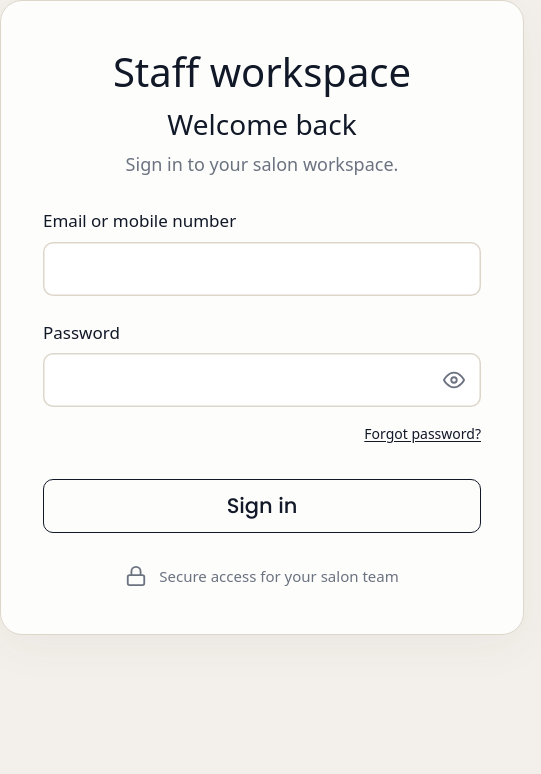
Scenario: account sign-in › shows field feedback for wrong credentials and clears the password
Expected: the button with test id "account-sign-in-submit" is enabled, [43, 479, 481, 533]
Step 1. Type "owner@alpha.test" into the field with test id "account-identifier" → (262,268), box [43, 242, 481, 296]
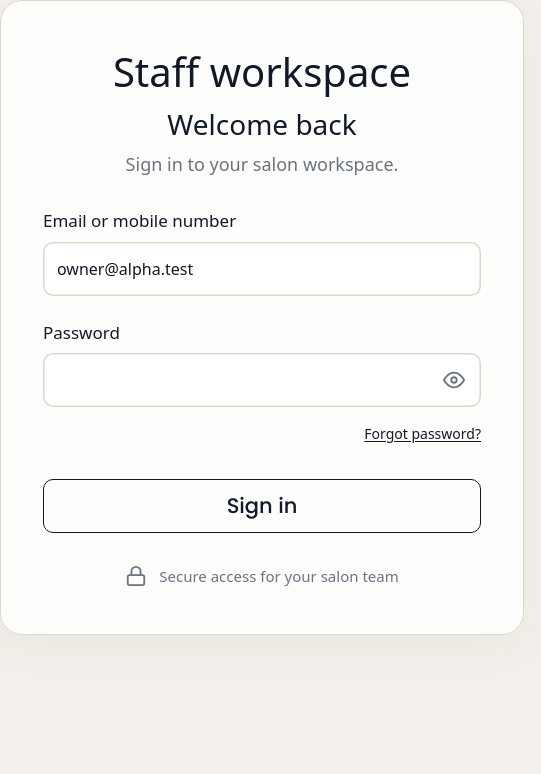
Step 2. Type "private password value" into the password field with test id "account-password" → (235,380), box [43, 353, 427, 407]
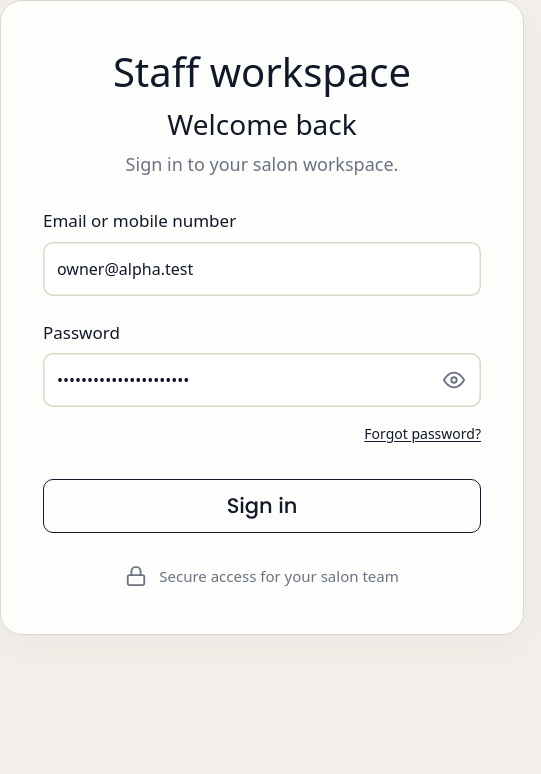
Step 3. Submit the form with test id "account-sign-in-submit", box [43, 208, 481, 533]
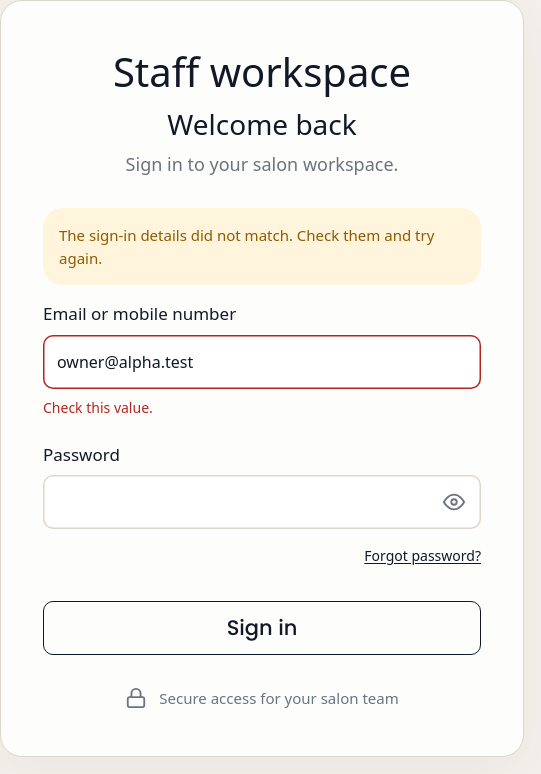
Expected: the message with test id "account-error" shows "did not match", [59, 225, 434, 268]
Expected: the password field with test id "account-password" is empty, [43, 475, 427, 529]
